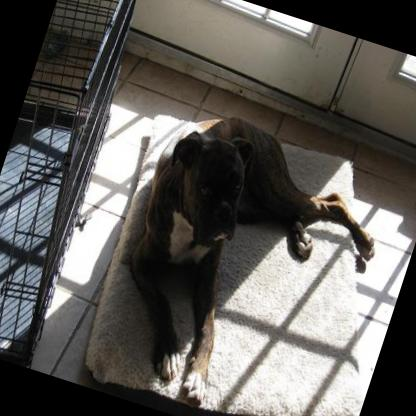boxer: (86, 93, 404, 416)
